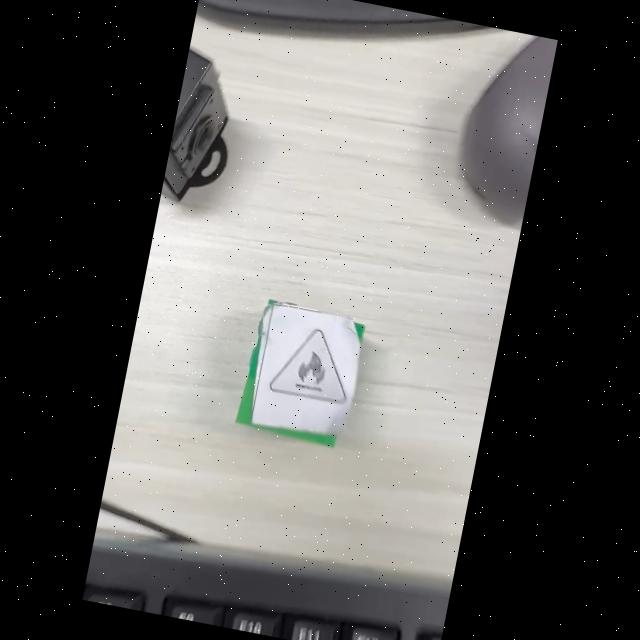Fire: (269, 330, 345, 403)
